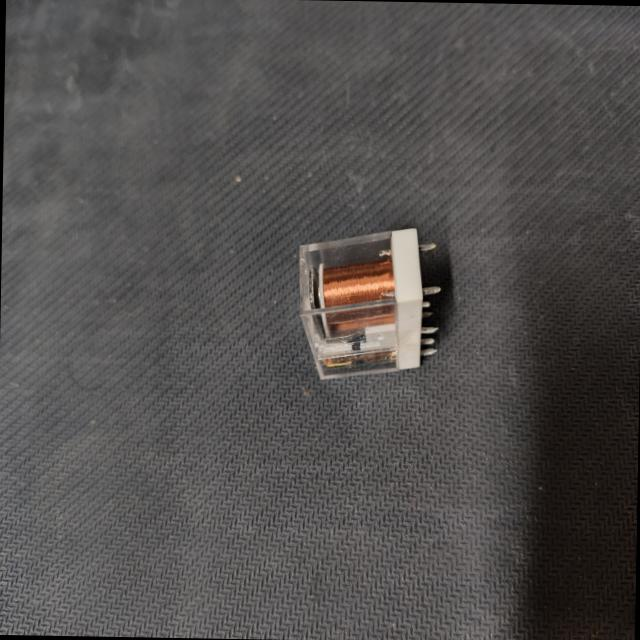relay: (286, 218, 452, 390)
